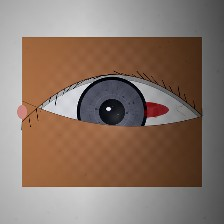hemorrhage_spot: (98, 77, 180, 143)
